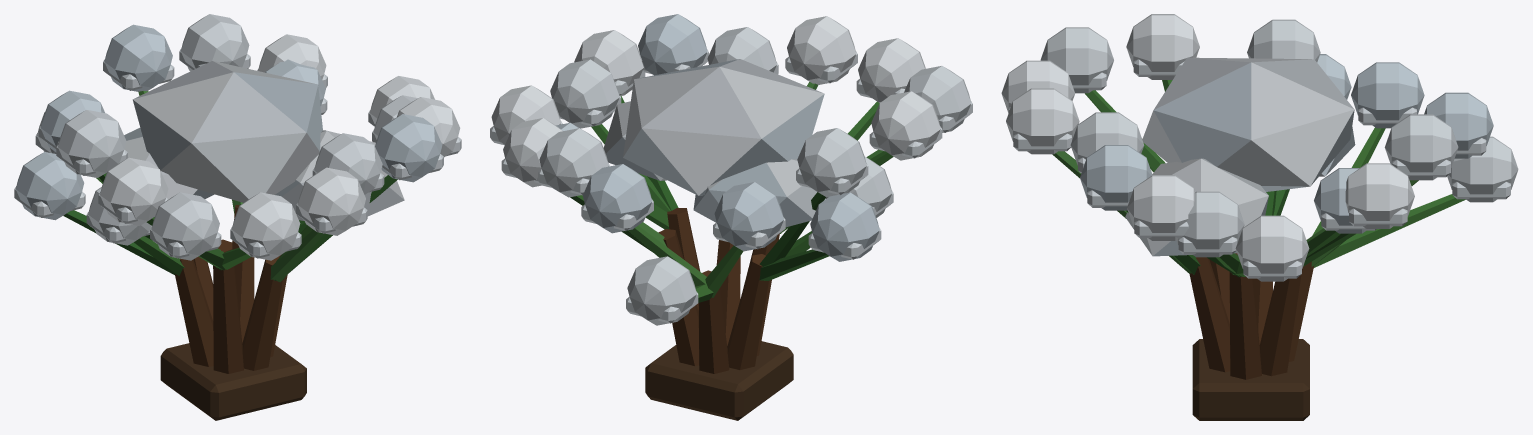
Rendered from SnowShrub.glb.
3 renders of one model, left to right at view 1: azimuth 30°, elevation 25°; view 2: azimuth 150°, elevation 25°; view 3: azimuth 270°, elevation 25°, orthographic. The views are drawn at different scales.
Visible parts, largest first — view 1: Body; view 2: Body; view 3: Body.
Part boxes in pixels (x1,y1,x2,y2): Body: [14, 14, 461, 420]; Body: [490, 14, 972, 420]; Body: [1001, 14, 1518, 420].
Bounding box in the file's own units: 2.84 × 2.24 × 3.08.
